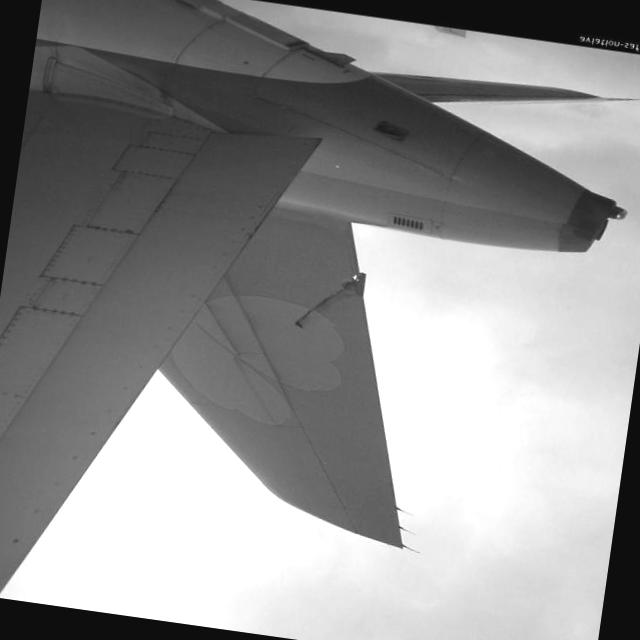crack: (291, 264, 365, 341)
